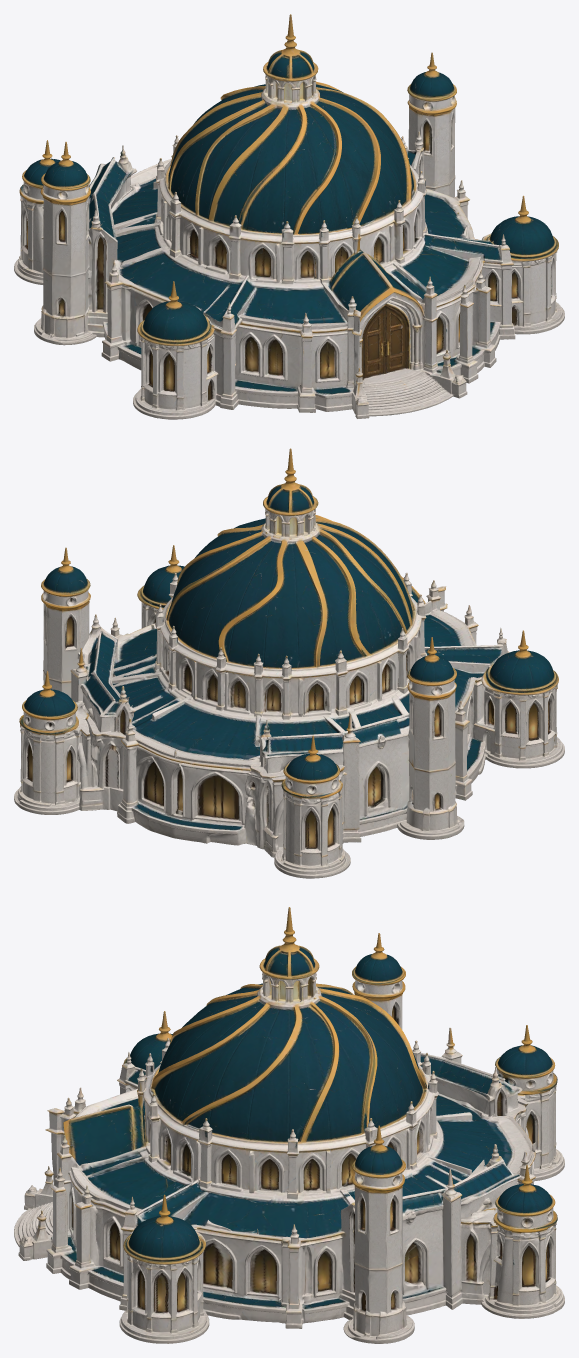
The model's file is biblioplex.glb.
3 renders of one model, top to bottom at view 1: azimuth 30°, elevation 25°; view 2: azimuth 150°, elevation 25°; view 3: azimuth 270°, elevation 25°, orthographic. The views are drawn at different scales.
Bounding box in the file's own units: 1.81 × 1.24 × 1.9.
1 material, 1 textured.
